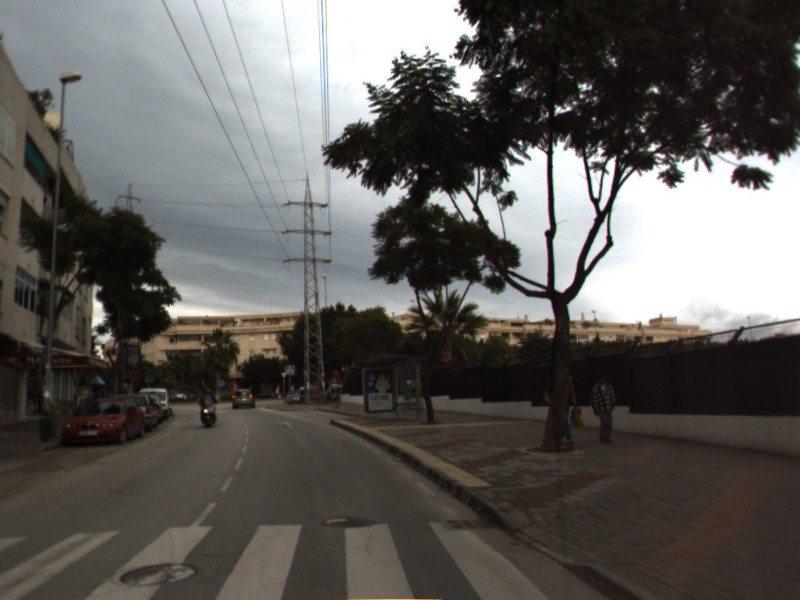STRAIGHT: (275, 418, 296, 430)
